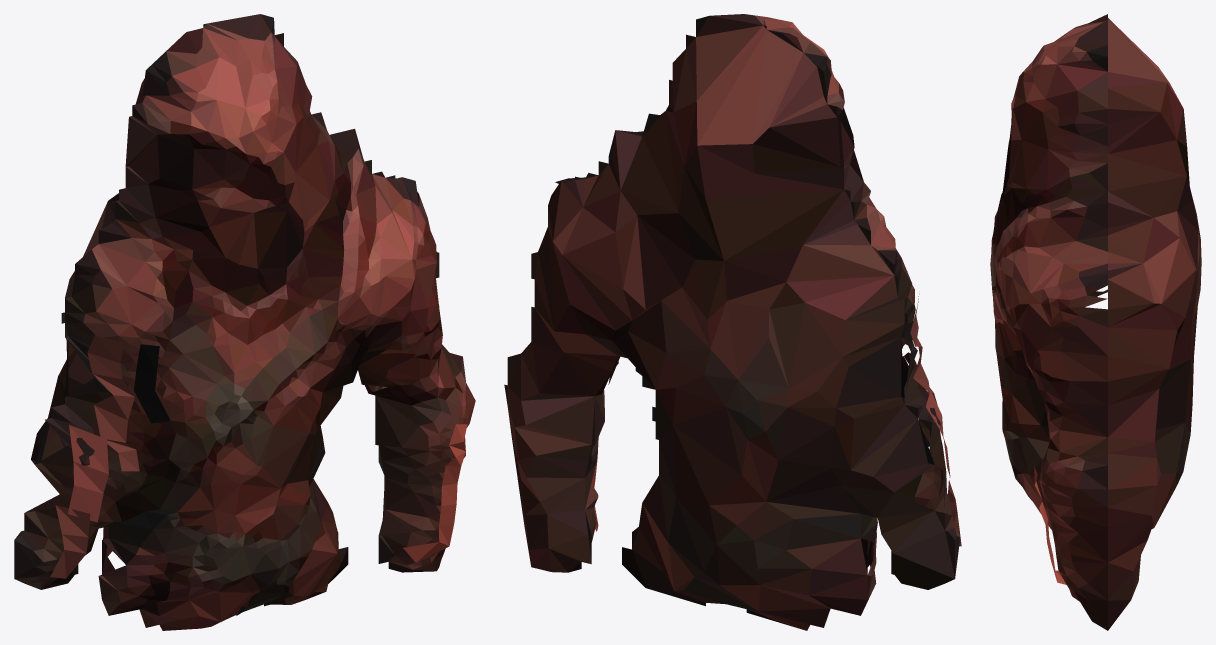
3 renders of one model, left to right at view 1: azimuth 30°, elevation 25°; view 2: azimuth 150°, elevation 25°; view 3: azimuth 270°, elevation 25°, orthographic. The views are drawn at different scales.
Parts seen in each view (by area): view 1: object 2, detail; view 2: object 2, detail; view 3: object 2, detail.
Part boxes in pixels (<box>): object 2: <box>14,14,475,630</box>; detail: <box>50,335,467,578</box>; object 2: <box>504,14,960,630</box>; detail: <box>591,293,961,546</box>; object 2: <box>990,14,1201,630</box>; detail: <box>1034,466,1066,584</box>.
Size of the model in its own units: 134 by 170 by 63.32.
